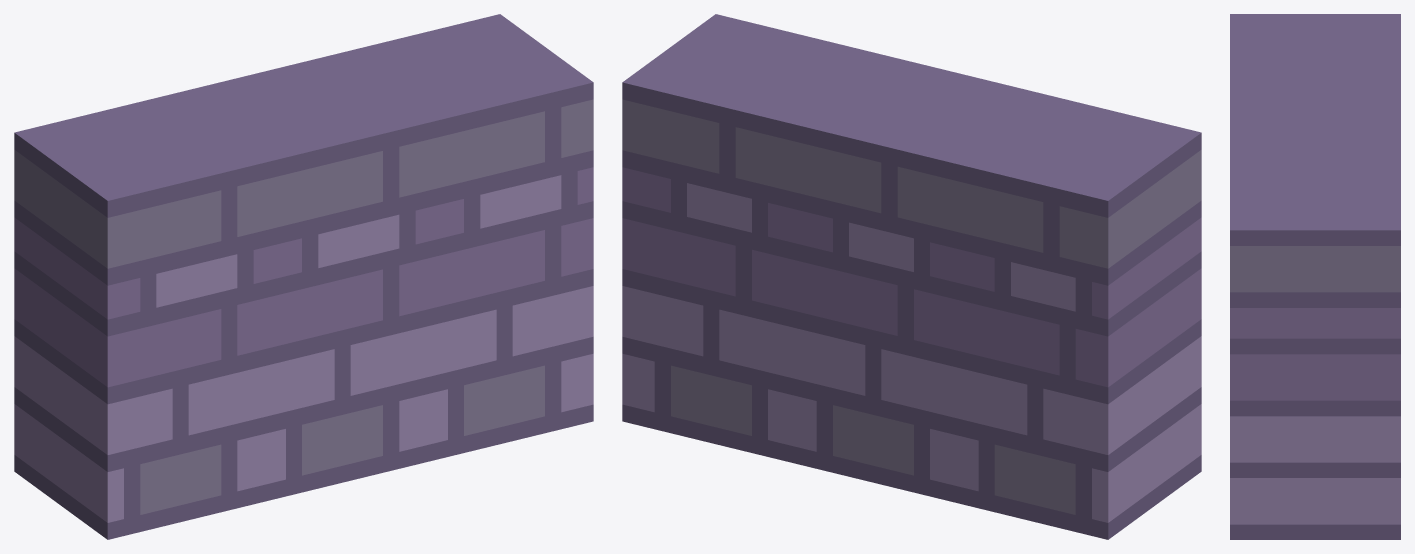
File: wall_Triple.obj
3 views of the same model, side by side, from view 1: azimuth 30°, elevation 25°; view 2: azimuth 150°, elevation 25°; view 3: azimuth 270°, elevation 25° (orthographic). The views are drawn at different scales.
Visible parts, largest first — view 1: wall_Triple; view 2: wall_Triple; view 3: wall_Triple.
Part boxes in pixels (left/top/right/bottom): wall_Triple: left=14, top=14, right=593, bottom=539; wall_Triple: left=622, top=14, right=1201, bottom=539; wall_Triple: left=1230, top=14, right=1400, bottom=539.
Size of the model in its own units: 30 by 20 by 10.
Materials: 1 (1 with a texture image).
